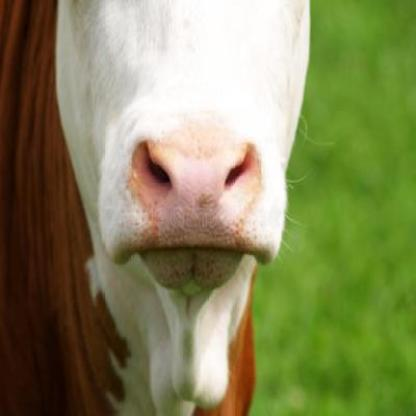lower: (176, 267, 209, 276)
mouth: (100, 132, 287, 292)
upper: (182, 180, 212, 207)
